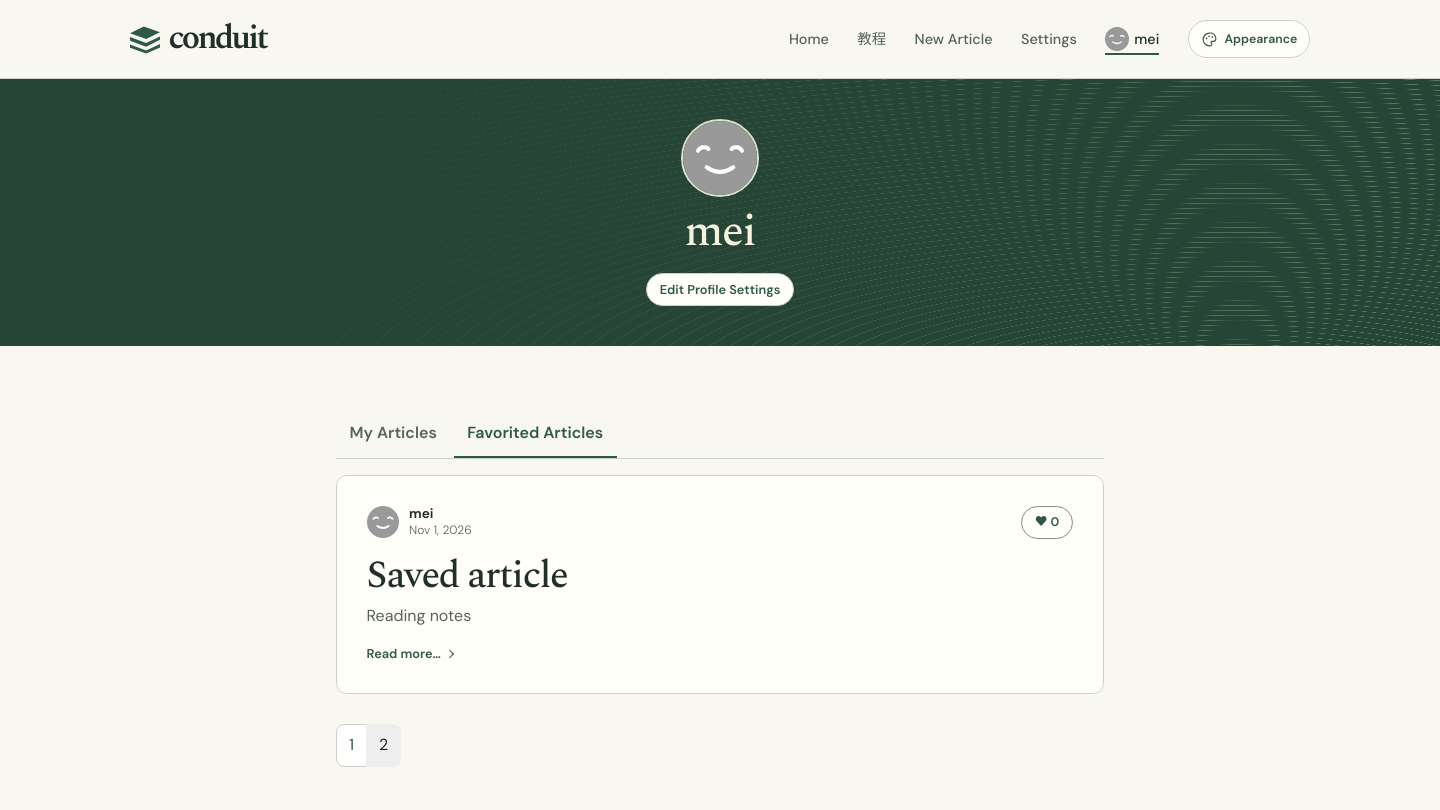
Scenario: loads a bookmarked favorites page and resets pagination on the author tab
Expected: the heading "Saved article" is shown, [367,546,567,605]
Expected: the link "Favorited Articles" is shown, [454,410,617,458]
Click the link "My Articles": (393, 432) [350,422,437,443]
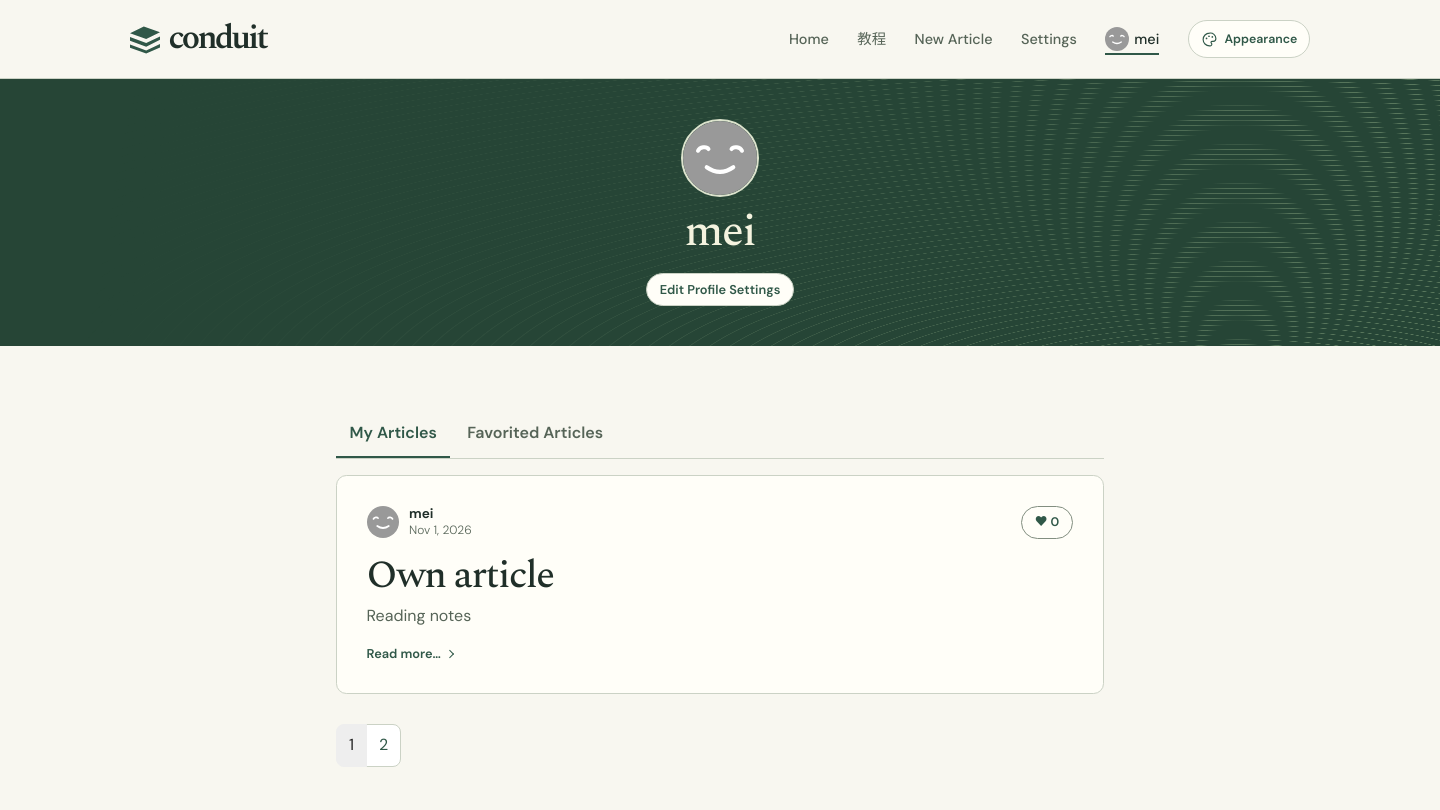
Expected: the link "mei" in the row of "New Article" is shown, [1103,19,1162,59]
Now the heading "Own article" is shown, box [367,546,554,605]
